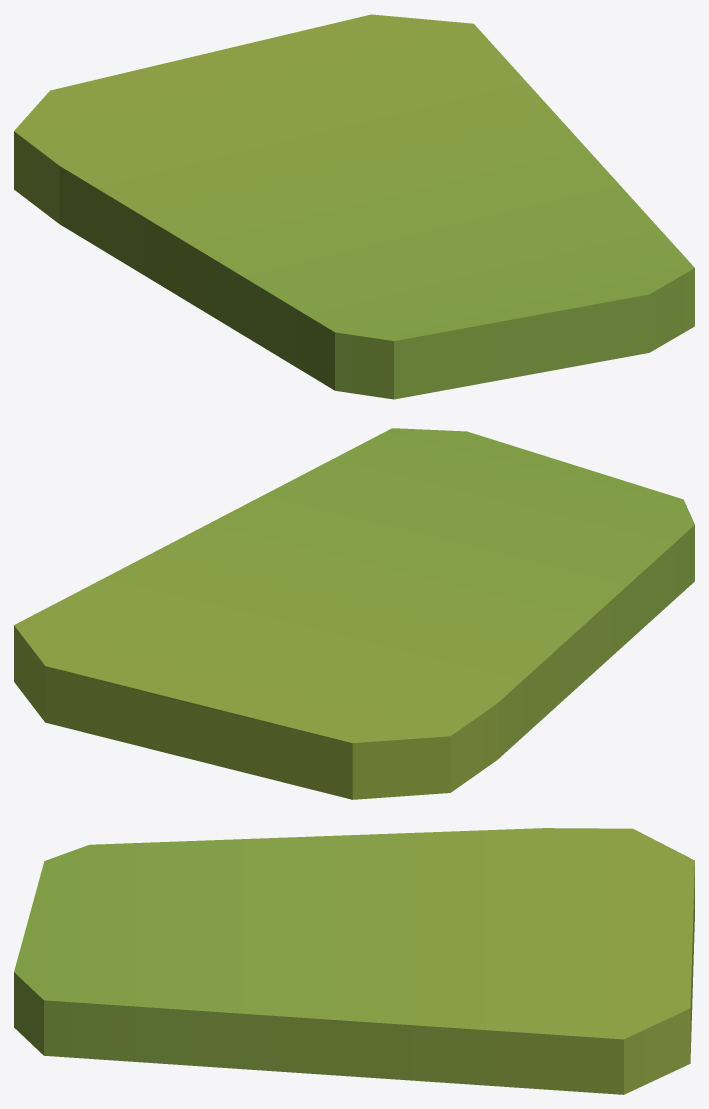
Rendered from Tile_04.fbx.
3 renders of one model, top to bottom at view 1: azimuth 30°, elevation 25°; view 2: azimuth 150°, elevation 25°; view 3: azimuth 270°, elevation 25°, orthographic. The views are drawn at different scales.
Visible parts, largest first — view 1: Tile_04; view 2: Tile_04; view 3: Tile_04.
Part boxes in pixels (box(x1,y1,x2,y2)): Tile_04: box(14, 14, 694, 399); Tile_04: box(14, 428, 694, 799); Tile_04: box(14, 828, 694, 1094).
Bounding box in the file's own units: 0.7515 × 0.0919 × 1.02.
